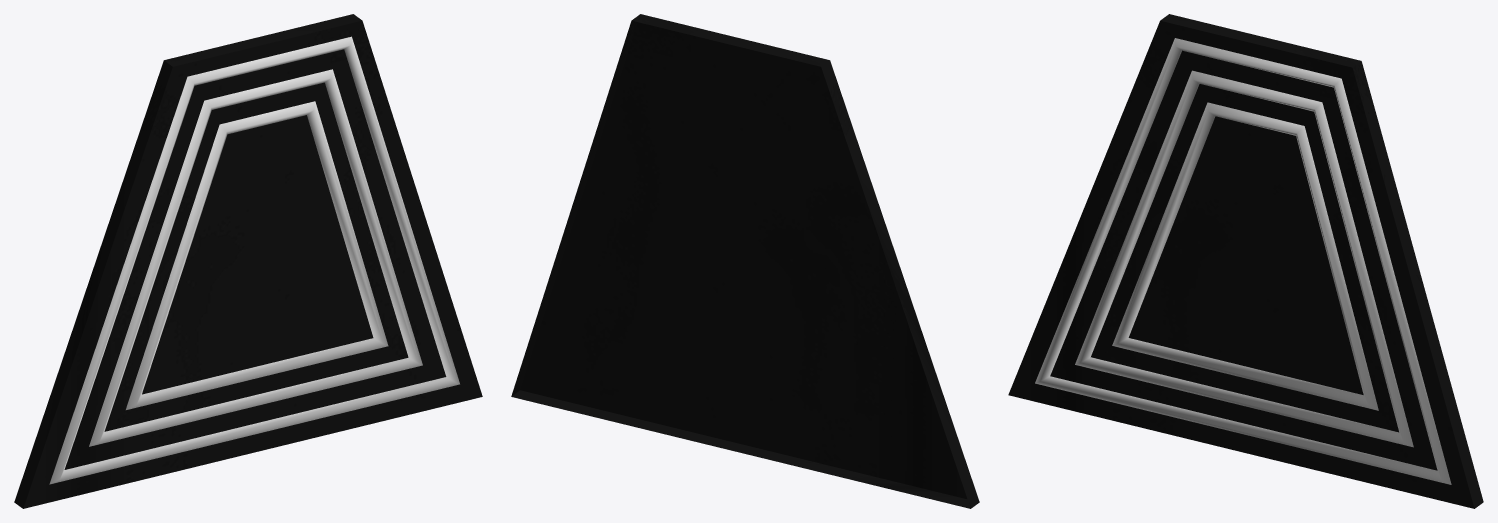
The model's file is Mesh_NeonTrapeze.fbx.
3 renders of one model, left to right at view 1: azimuth 30°, elevation 25°; view 2: azimuth 150°, elevation 25°; view 3: azimuth 330°, elevation 25°, orthographic.
Visible parts, largest first — view 1: NeonTrapeze; view 2: NeonTrapeze; view 3: NeonTrapeze.
Boxes of the visible parts, bbox=[...] form: NeonTrapeze: bbox=[14, 14, 482, 508]; NeonTrapeze: bbox=[511, 14, 979, 508]; NeonTrapeze: bbox=[1008, 14, 1483, 508].
Size of the model in its own units: 1.19 by 1 by 0.0537.
